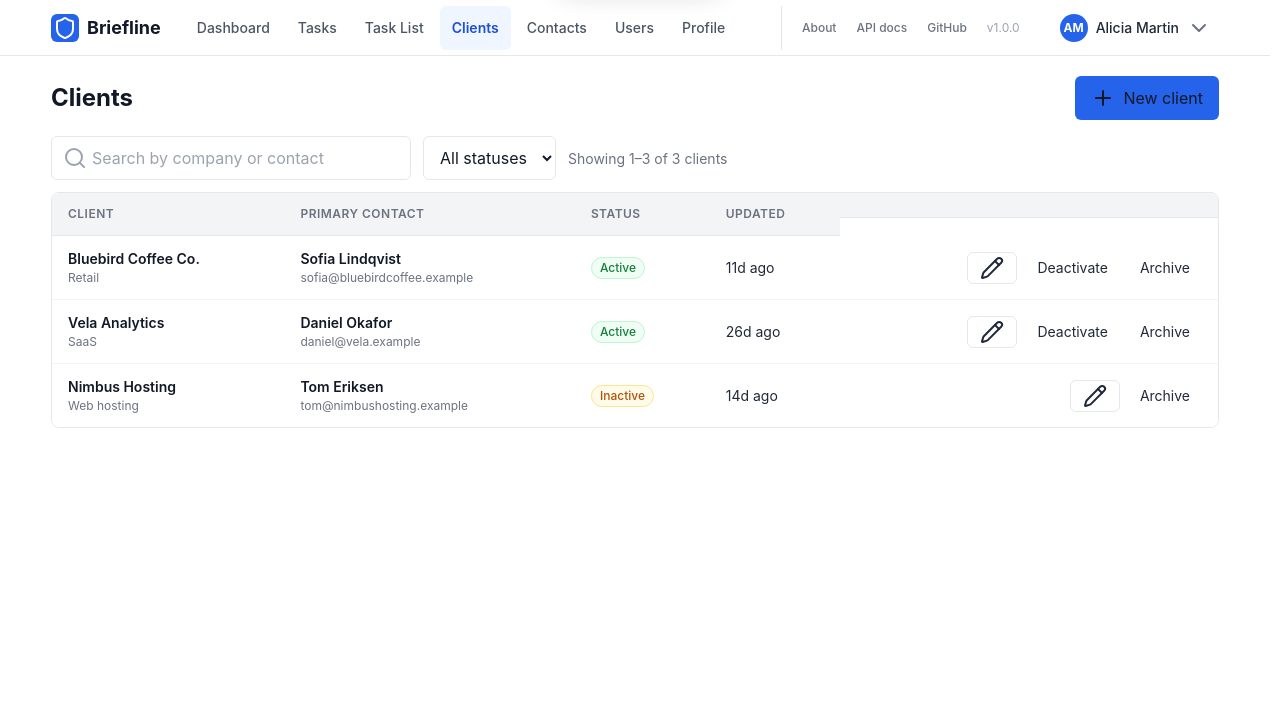
Test: Client edit (admin) › updates a client from the edit drawer and announces the change
Check: the heading "Clients" is shown, box [51,83,133,113]
Check: the table named "Clients" is shown, box [52,193,1218,427]
Click the button named "Edit" at (992, 268), box [967,252,1017,284]
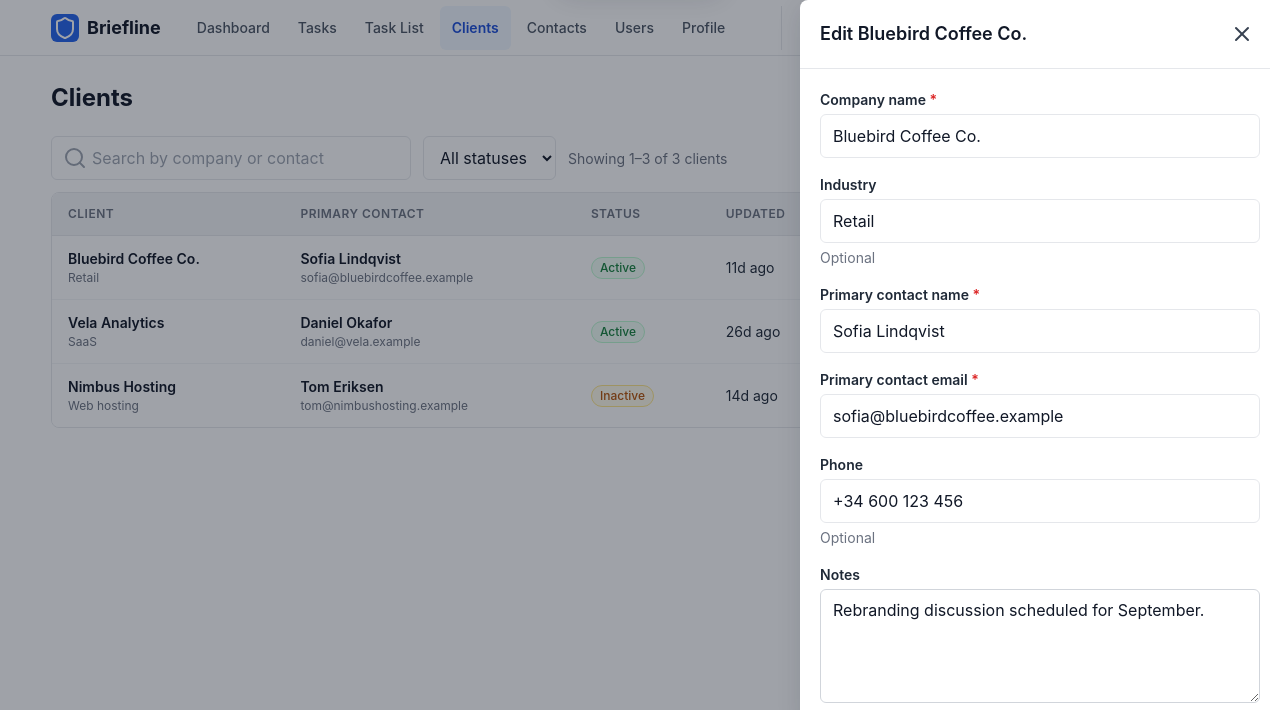
Replace the text in the field labelled "Phone" with "+34 600 999 999" at (1040, 501), box [820,479,1260,523]
(page scrolled)
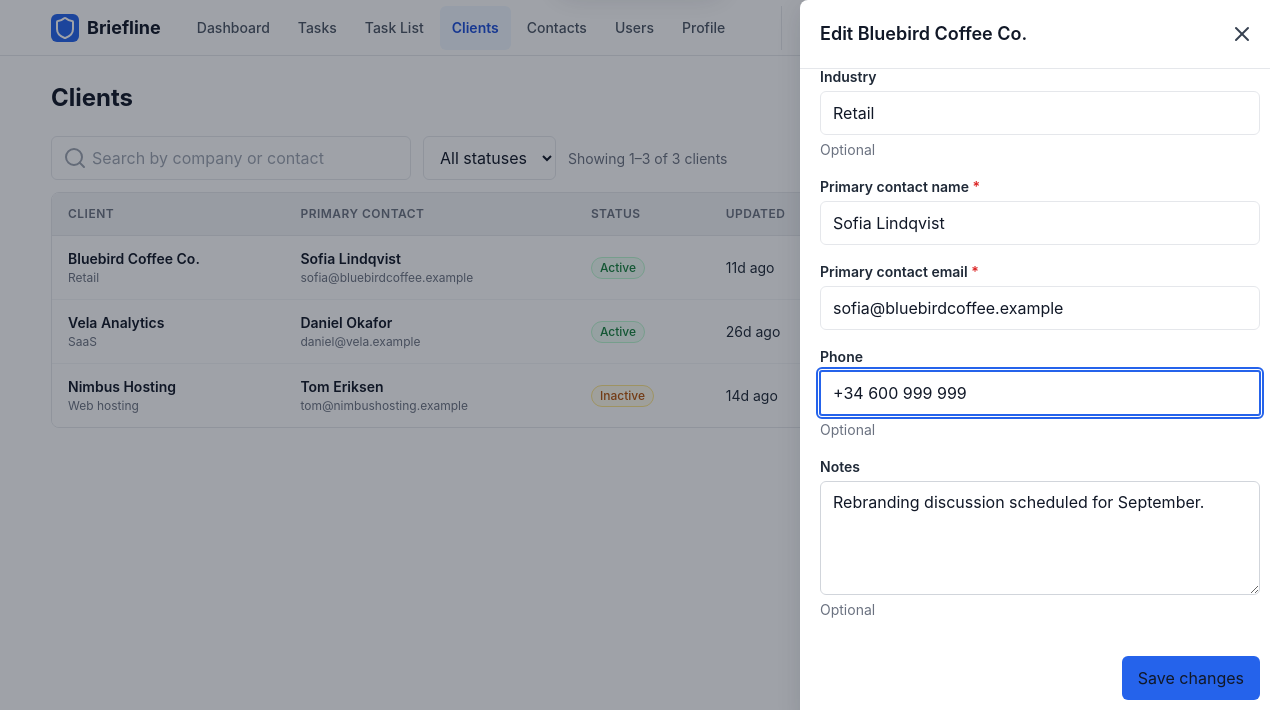
Click the button "Save changes" at (1191, 678), box [1122,656,1260,700]
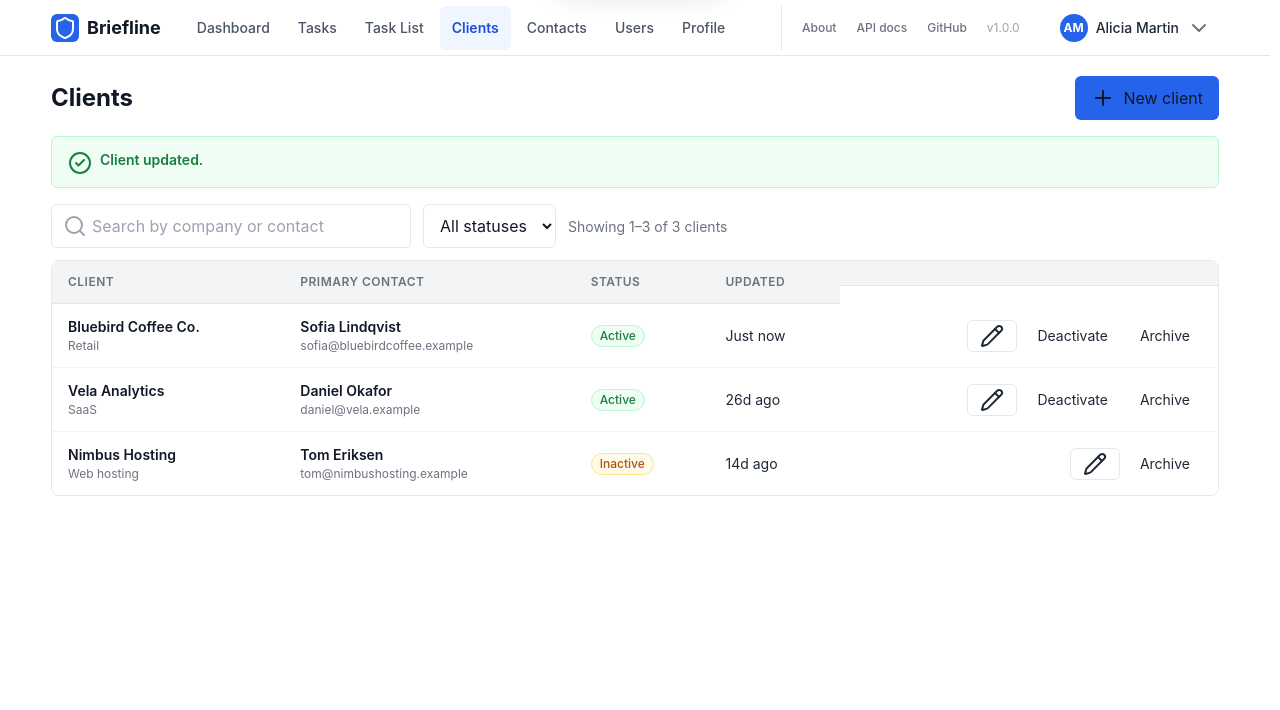
Check: the text "Client updated." is shown, box [100,149,203,170]
Check: the heading "Edit Bluebird Coffee Co." is gone
